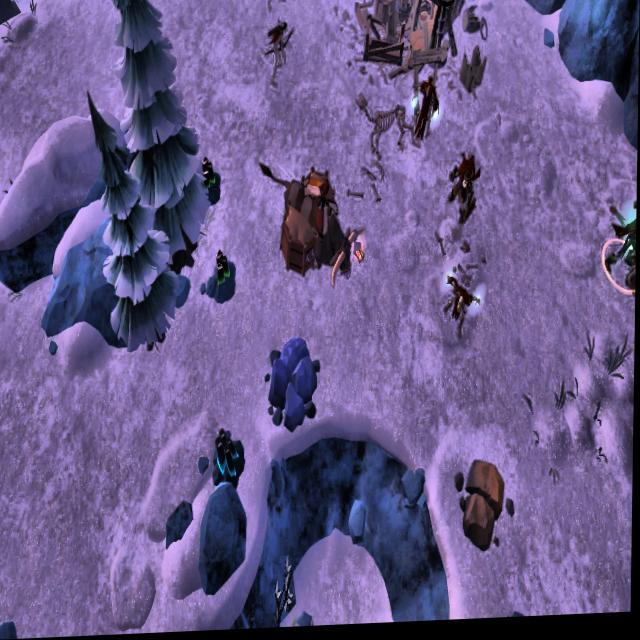enemy_factionUndead: (605, 207, 637, 315), (447, 154, 482, 234), (446, 267, 482, 340), (410, 76, 438, 148)
ore_t3: (201, 153, 220, 194), (211, 251, 231, 288)
ore_t4: (216, 427, 240, 482)
rock_t4: (262, 334, 323, 442)
